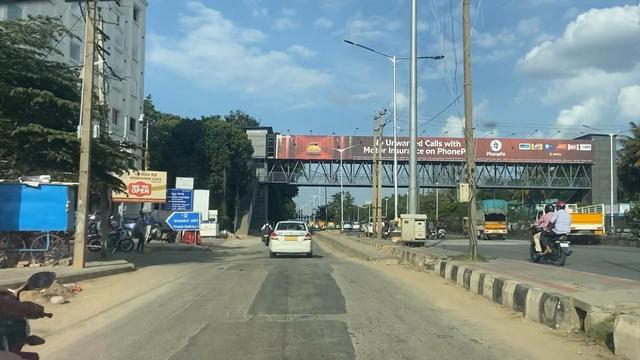LMV: (268, 219, 315, 256)
UnsurfacedRoad: (206, 293, 357, 342)
